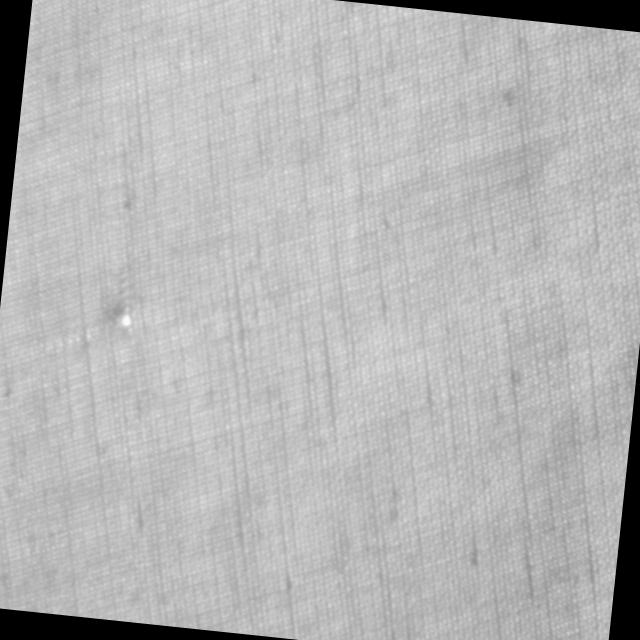hole: (116, 306, 134, 332)
